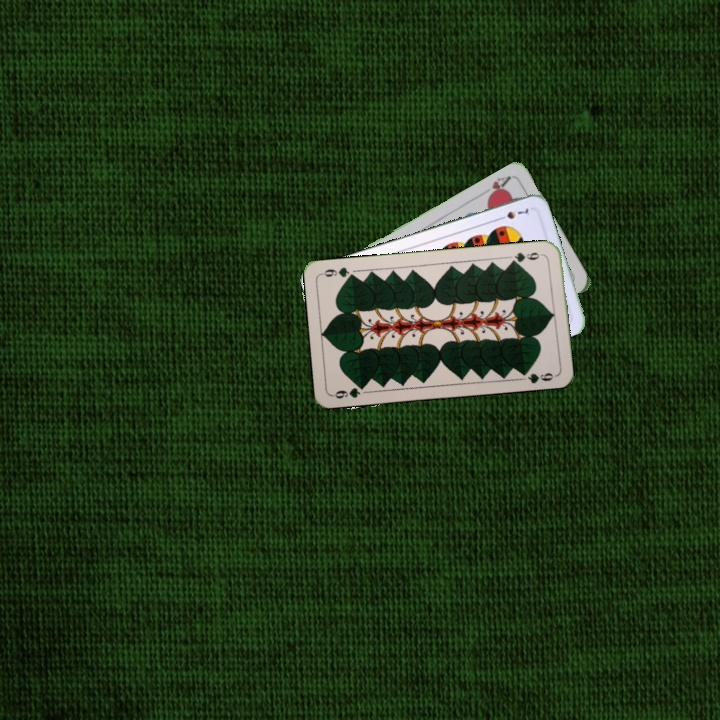G9: (329, 380, 369, 401), (507, 248, 547, 266)
HA: (483, 171, 514, 202)
S7: (493, 204, 532, 223)
